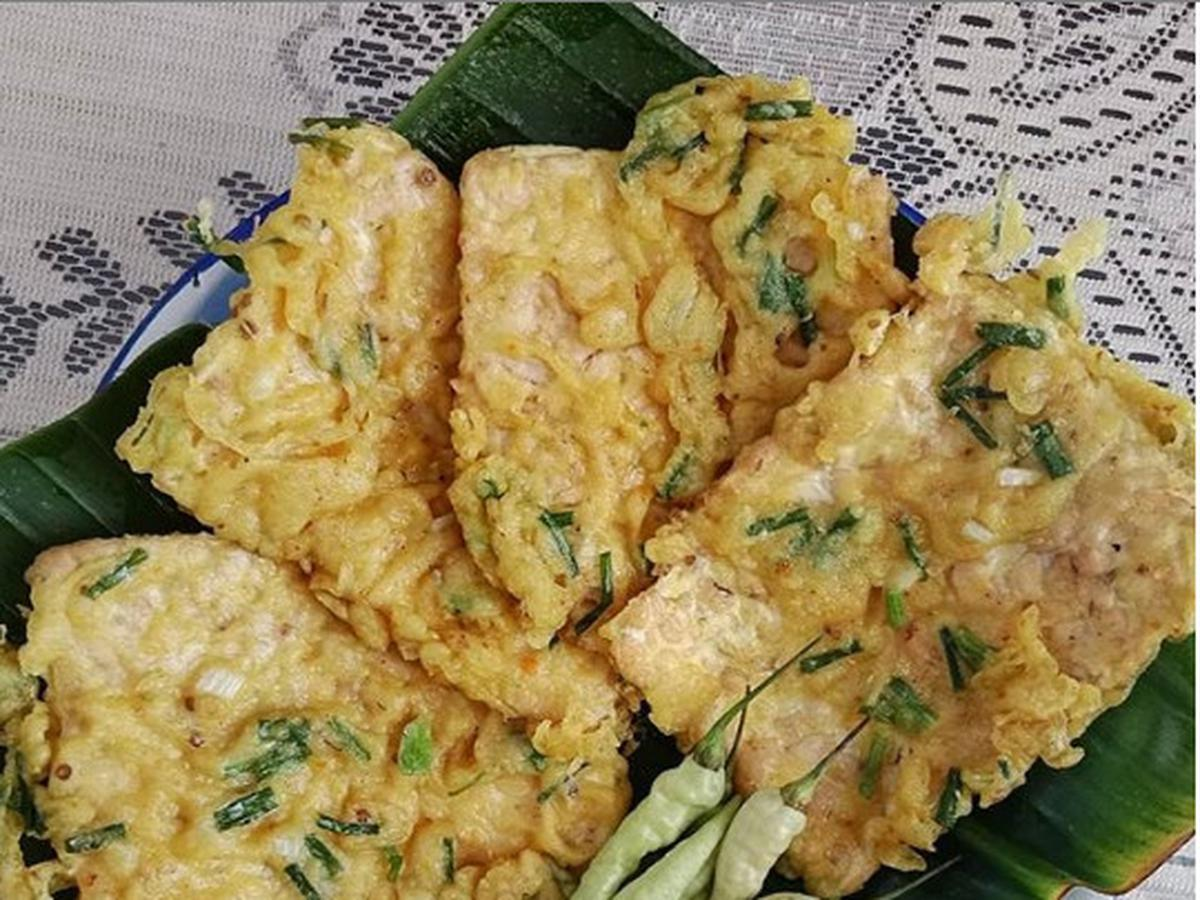Tempe: (611, 302, 1195, 816), (385, 93, 877, 556), (35, 538, 626, 894), (175, 138, 468, 547)
